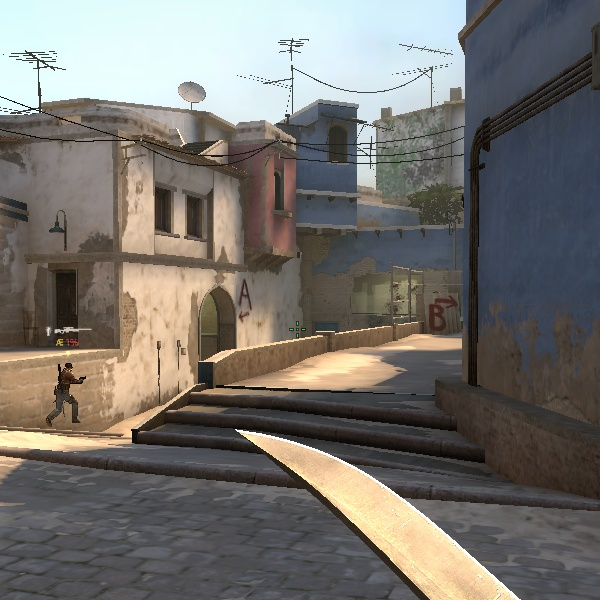t_body: (48, 355, 86, 427)
